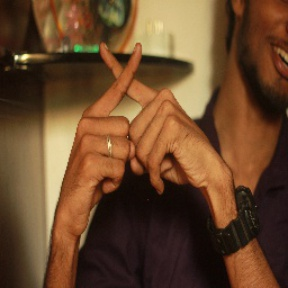X: (69, 36, 186, 143)
